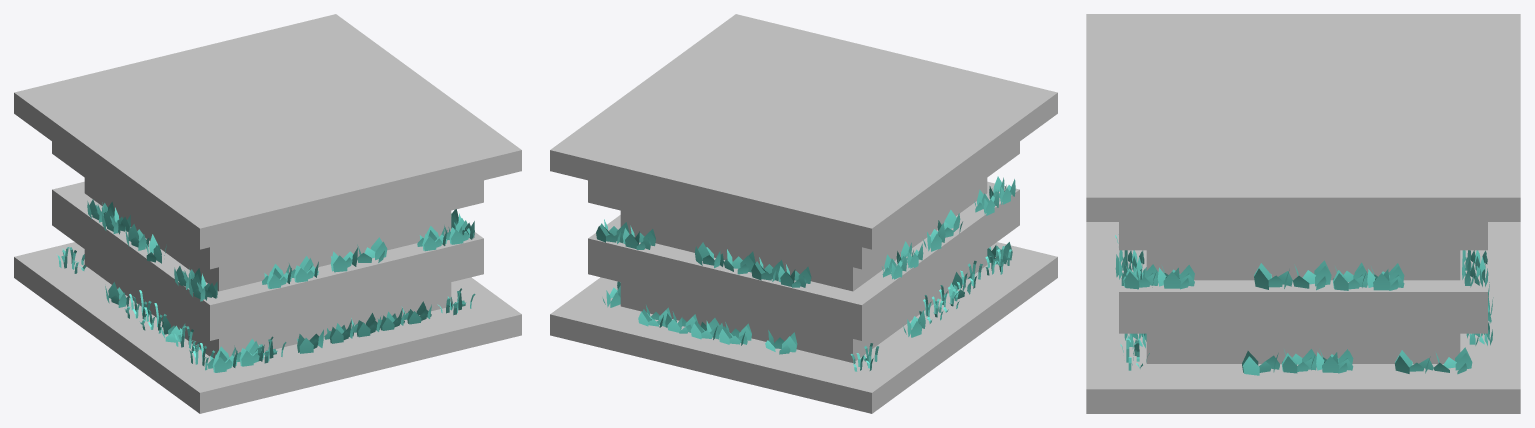
The model's file is techo_depas.fbx.
3 views of the same model, side by side, from view 1: azimuth 30°, elevation 25°; view 2: azimuth 150°, elevation 25°; view 3: azimuth 270°, elevation 25° (orthographic). The views are drawn at different scales.
Parts seen in each view (by area): view 1: techo_depas; view 2: techo_depas; view 3: techo_depas.
Part boxes in pixels (left/top/right/bottom): techo_depas: left=14, top=14, right=521, bottom=413; techo_depas: left=550, top=14, right=1057, bottom=413; techo_depas: left=1086, top=14, right=1520, bottom=413.
Size of the model in its own units: 2000 by 1100 by 2000.
